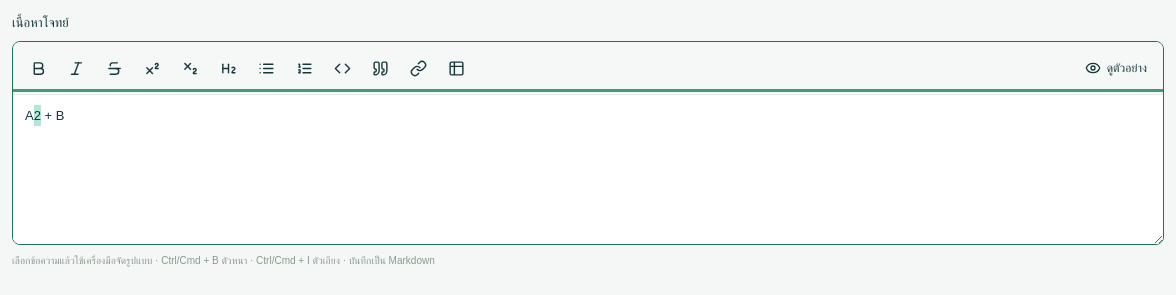
Test case: Markdown editor › formats and toggles เลขยกกำลัง and renders its preview
The width and height of the screenshot is (1176, 295).
Click the button named "เลขยกกำลัง".
click(152, 68)  # box [135,50,169,86]
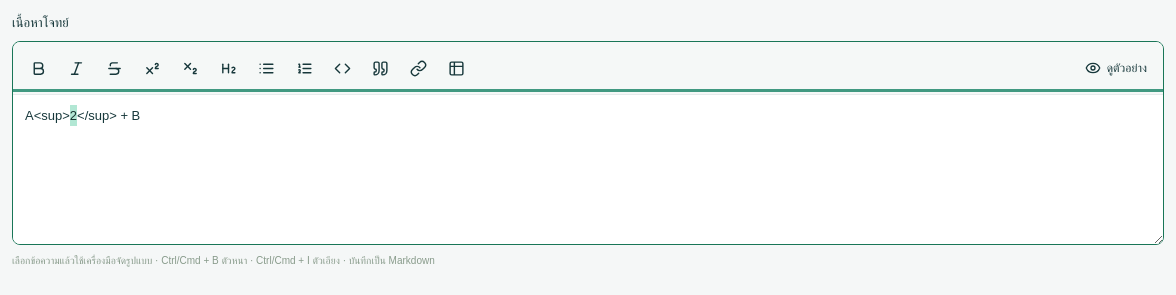
Click the button named "เลขยกกำลัง".
click(152, 68)  # box [135,50,169,86]
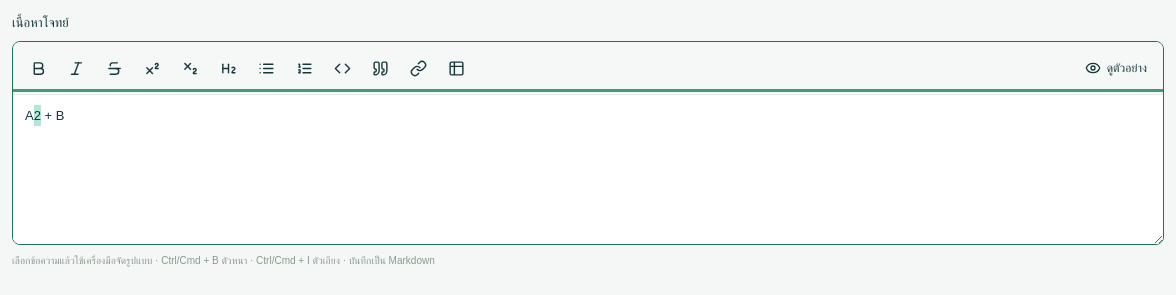
Click the button named "เลขยกกำลัง".
click(152, 68)  # box [135,50,169,86]
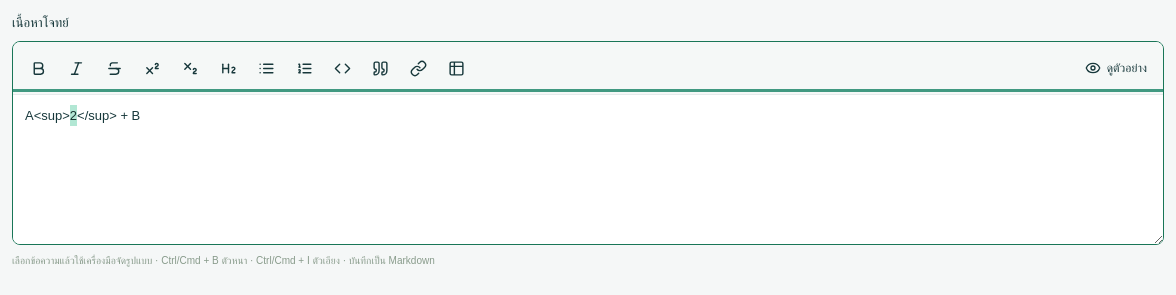
Click the button "ดูตัวอย่าง".
click(1116, 68)  # box [1077,50,1155,86]
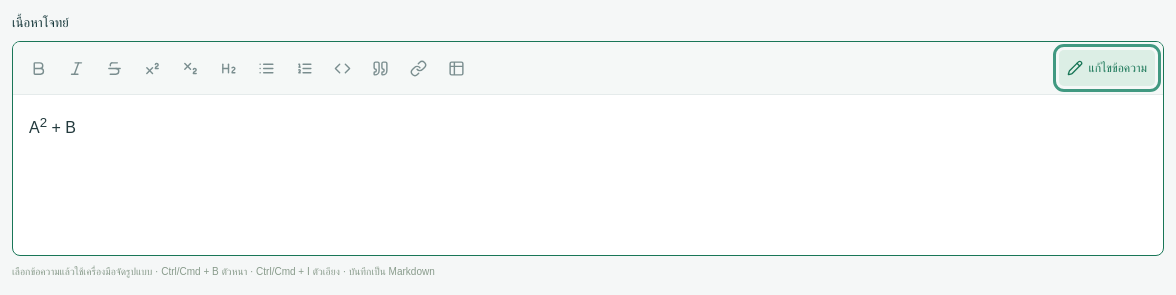
Expected: the text "2" is shown, [40,115,47,130]
